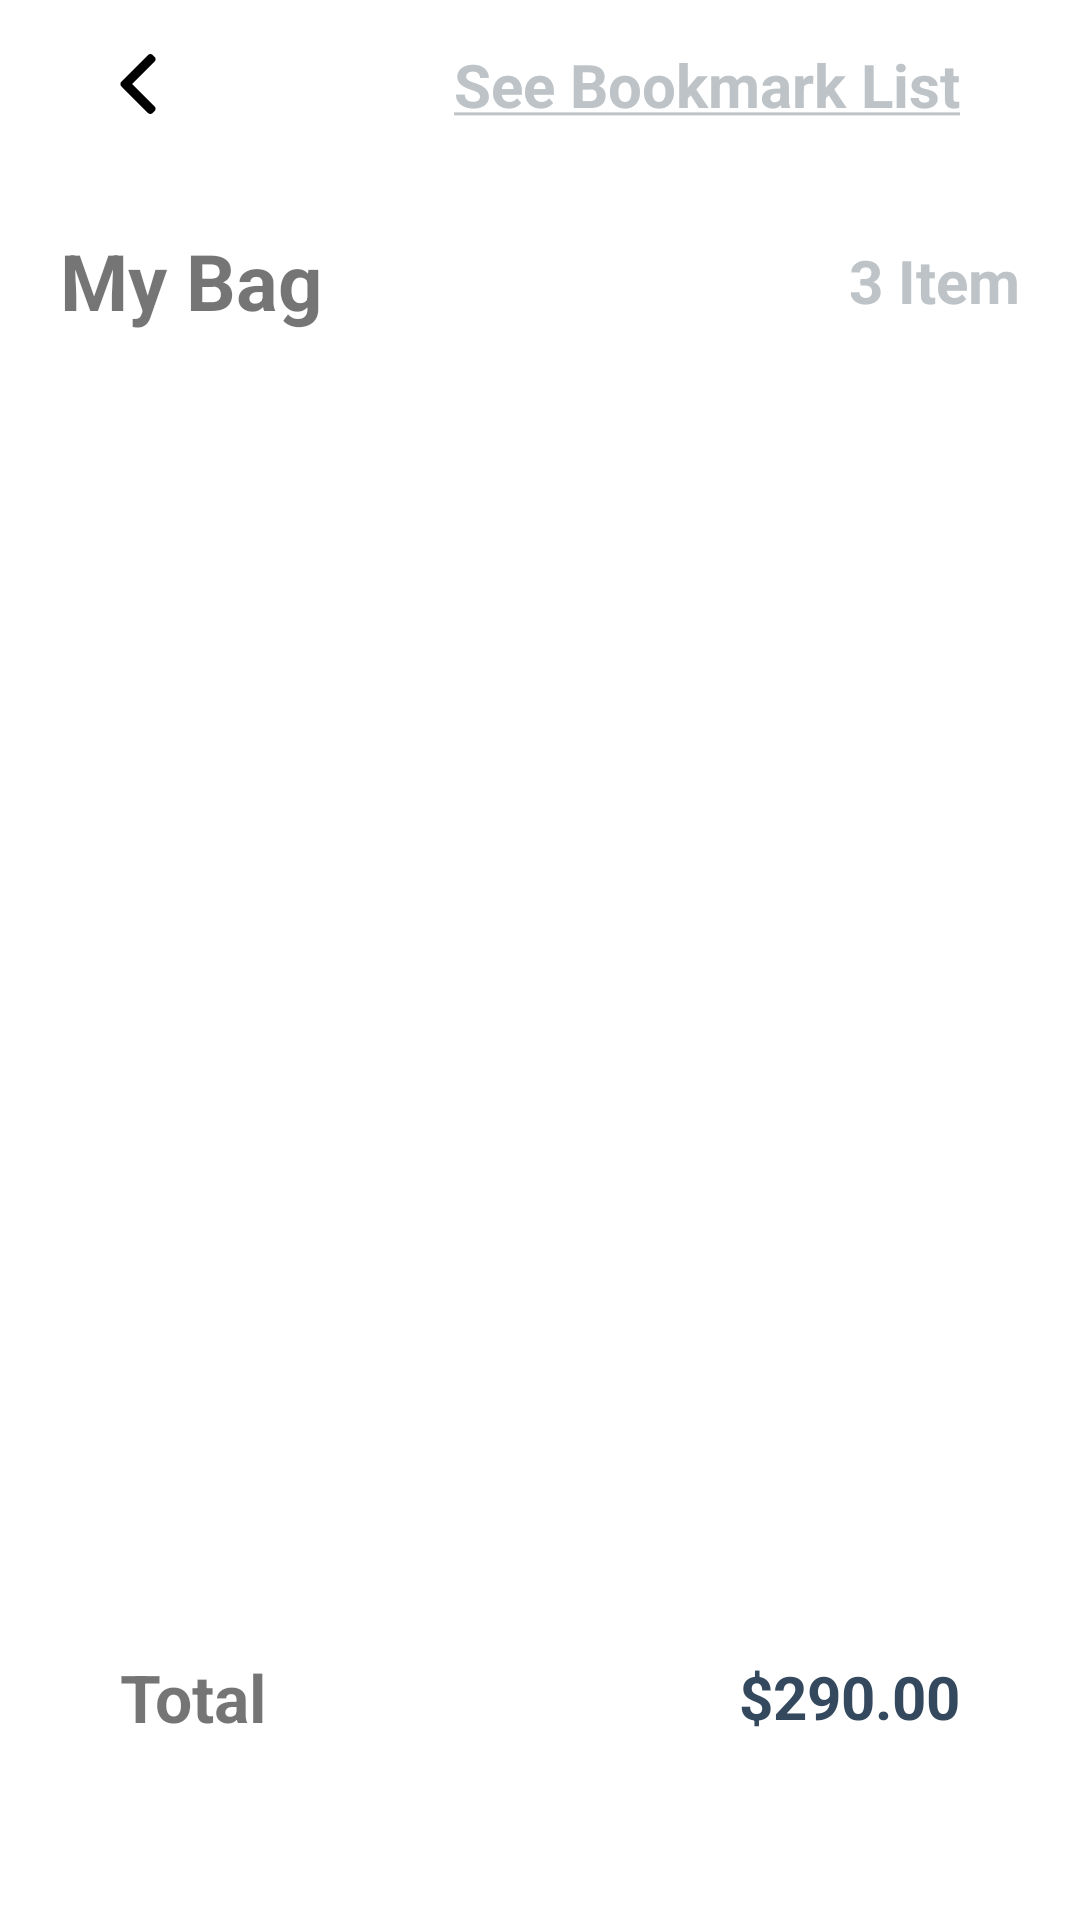

Icons on this 1080px×1920px Android screen, each with the point to tap as (x,y):
left arrow: (138,84)
